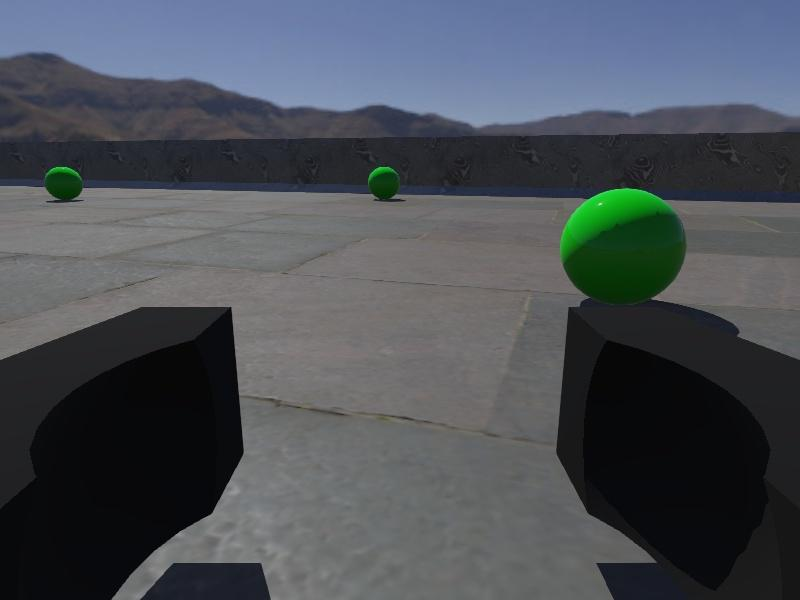green ball: (559, 186, 688, 307), (44, 165, 84, 201), (367, 165, 401, 201)
